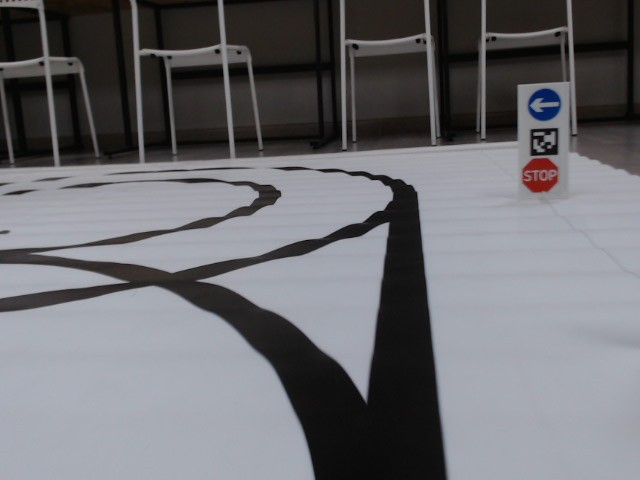Stop: (523, 157, 557, 193)
